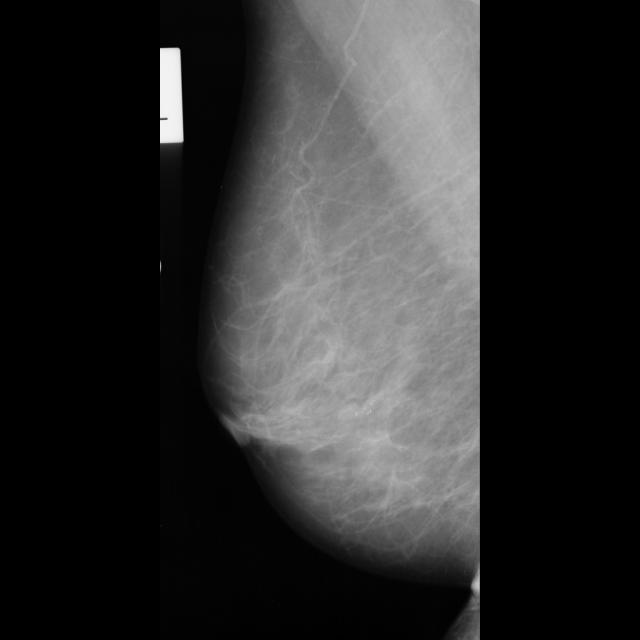CALC: (351, 396, 380, 425)
